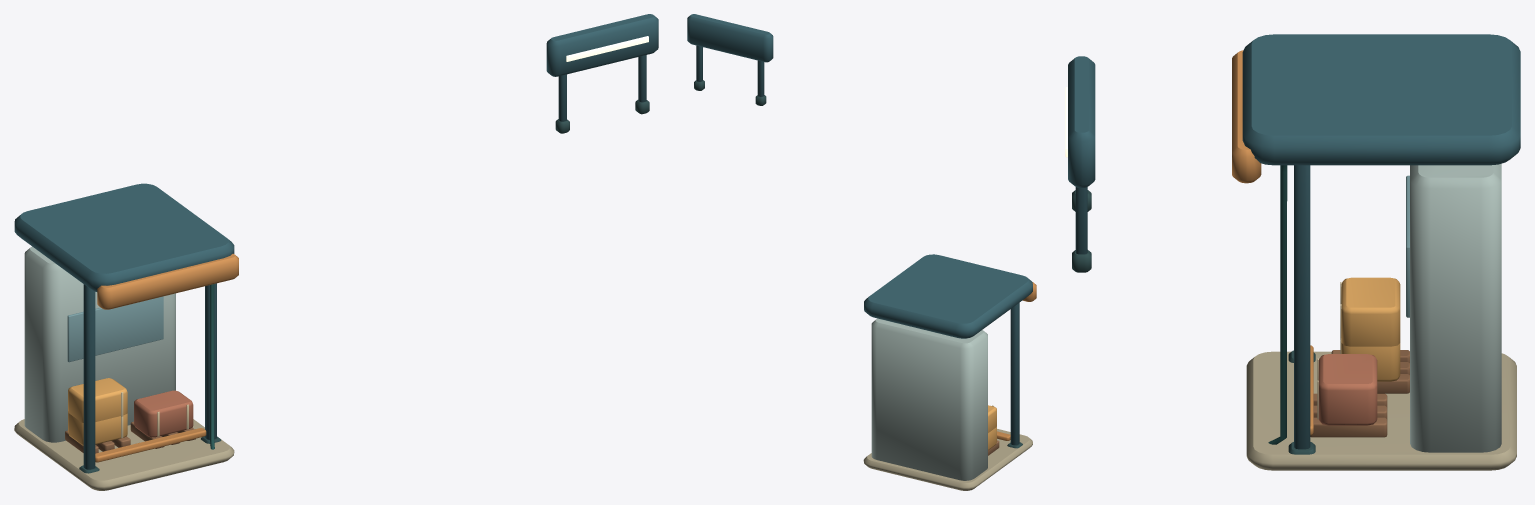
File: harbor_transfer_4.glb
3 renders of one model, left to right at view 1: azimuth 30°, elevation 25°; view 2: azimuth 150°, elevation 25°; view 3: azimuth 270°, elevation 25°, orthographic. The views are drawn at different scales.
Visible parts, largest first — view 1: HarborTransfer4; view 2: HarborTransfer4; view 3: HarborTransfer4.
Part boxes in pixels (x1,y1,x2,y2): HarborTransfer4: [14, 14, 658, 490]; HarborTransfer4: [687, 14, 1036, 490]; HarborTransfer4: [1065, 34, 1520, 470].
Bounding box in the file's own units: 8.28 × 6.18 × 4.18.
